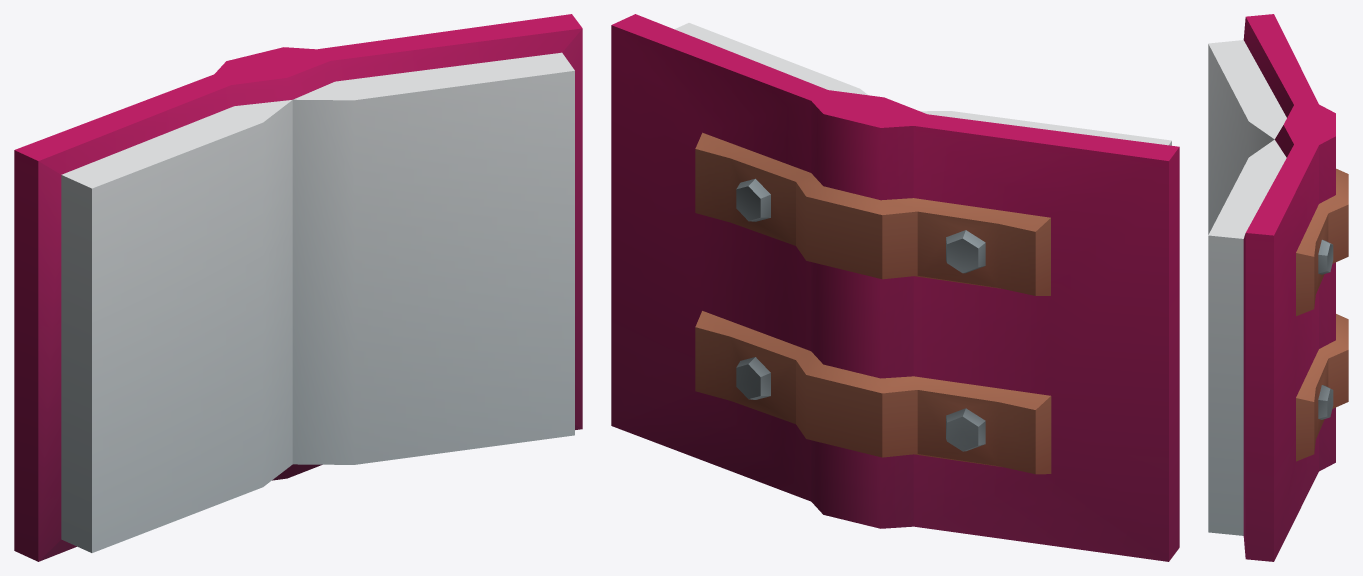
The model's file is kaykit-spellbook.glb.
3 views of the same model, side by side, from view 1: azimuth 30°, elevation 25°; view 2: azimuth 150°, elevation 25°; view 3: azimuth 270°, elevation 25° (orthographic). The views are drawn at different scales.
Parts seen in each view (by area): view 1: kaykit-spellbook; view 2: kaykit-spellbook; view 3: kaykit-spellbook.
Part boxes in pixels (x1=…): kaykit-spellbook: x1=14, y1=14, x2=582, y2=561; kaykit-spellbook: x1=611, y1=14, x2=1179, y2=561; kaykit-spellbook: x1=1208, y1=14, x2=1348, y2=561.
Size of the model in its own units: 0.6211 by 0.4266 by 0.1665.
1 material, 1 textured.
